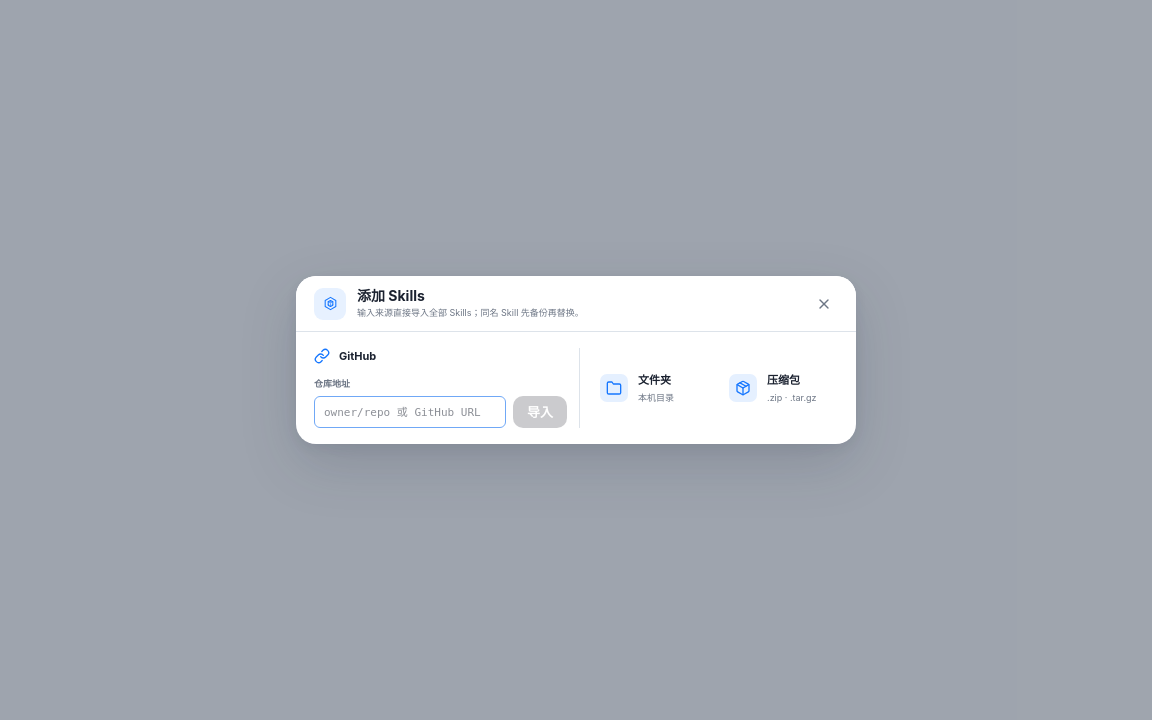
Test case: SkillInstallDialog central asset intake › accepts a source resolution after StrictMode replays mount effects
The width and height of the screenshot is (1152, 720).
Type "  acme/skills  " into the field labelled "仓库地址" at point(410, 412), box [314,396,506,428]
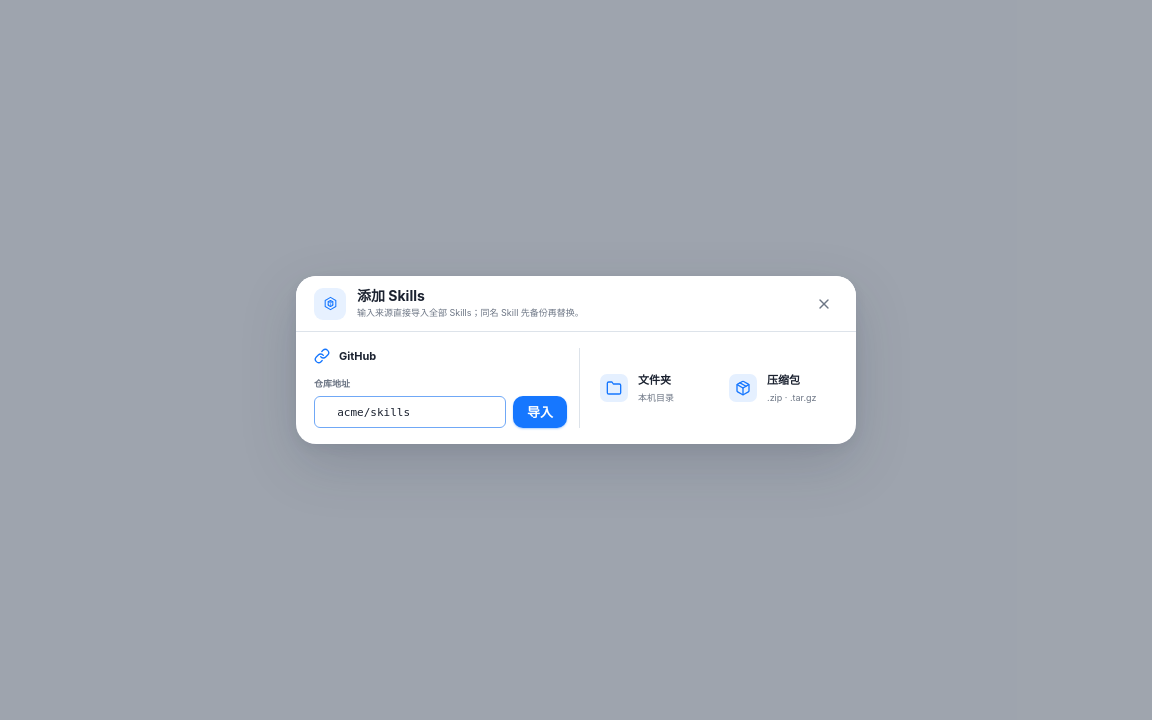
Click the button "导入" at point(540, 412), box [513,396,567,428]
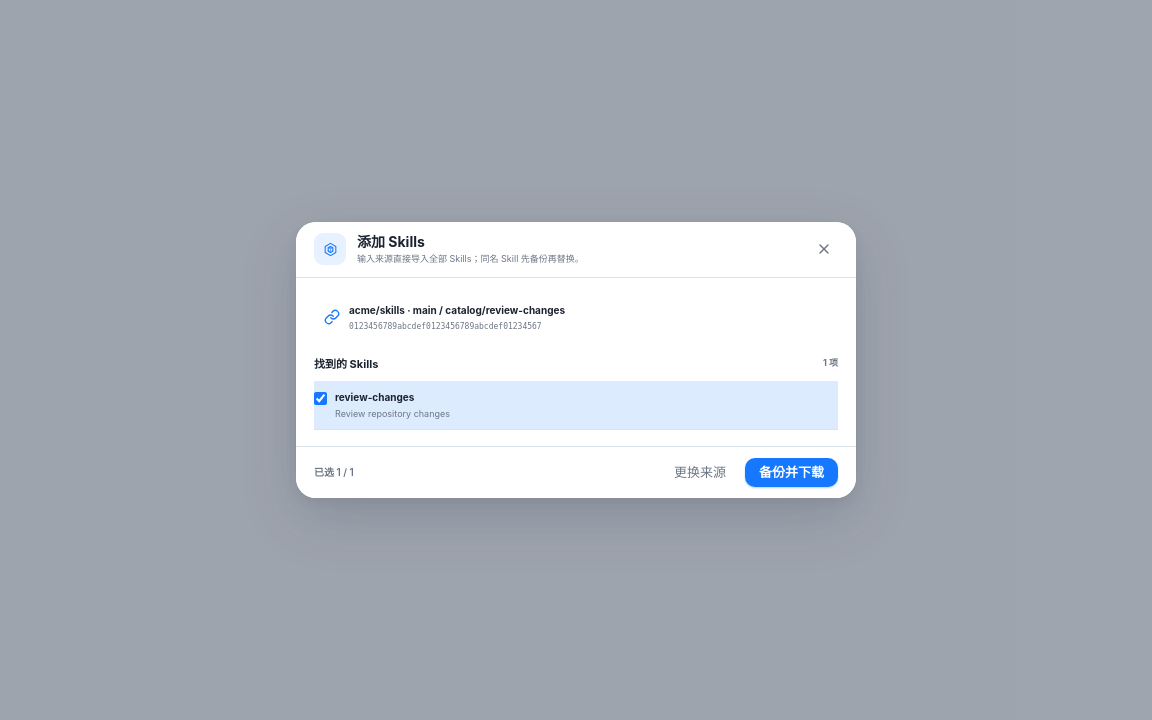
Now the checkbox labelled "review-changes" is checked, box [314,392,327,404]
